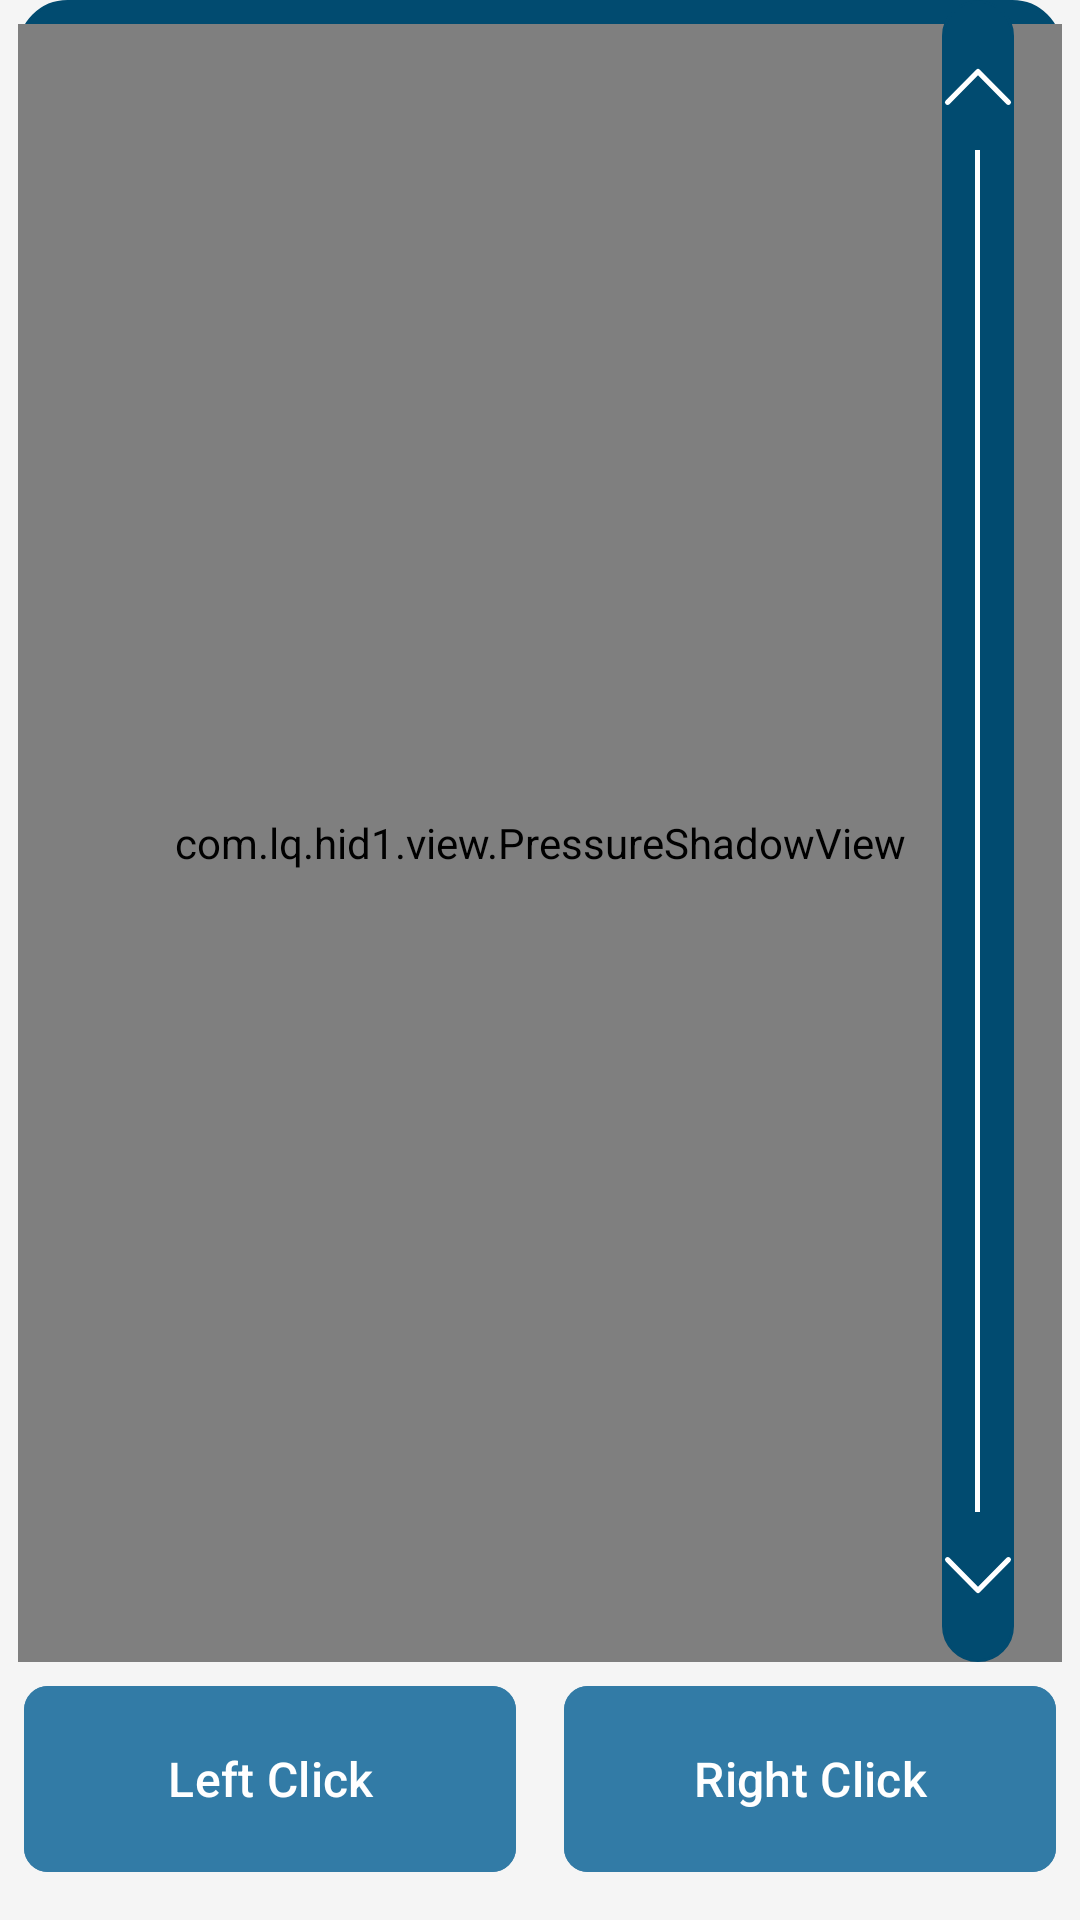

Icons on this 1080w x 1920h Android screen, each with the point to tap as [x,y]:
arrow down: [978,1575]
arrow up: [978,86]
